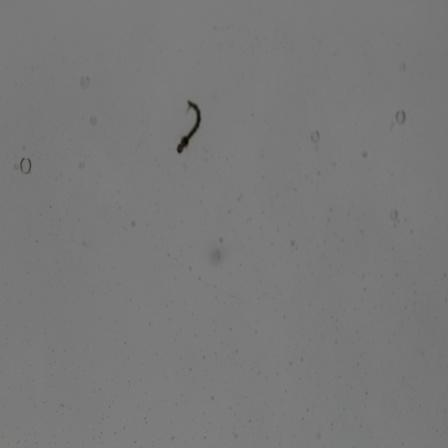Jentik-Nyamuk: (172, 98, 205, 158)
